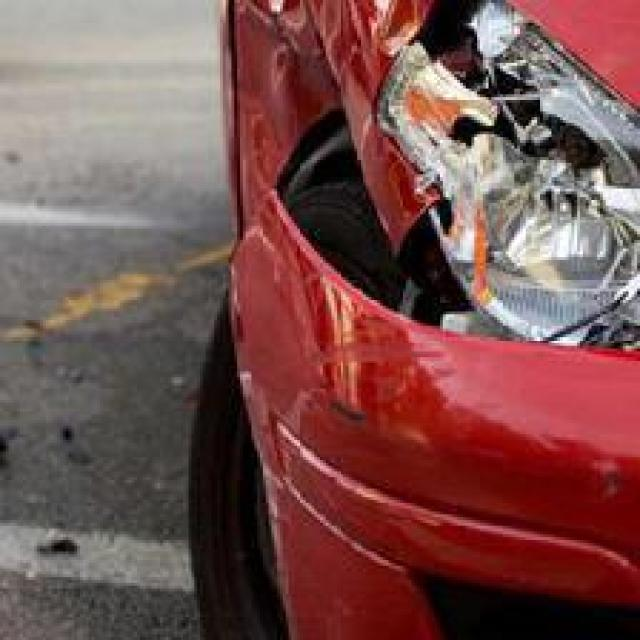damaged: (214, 2, 637, 412)
